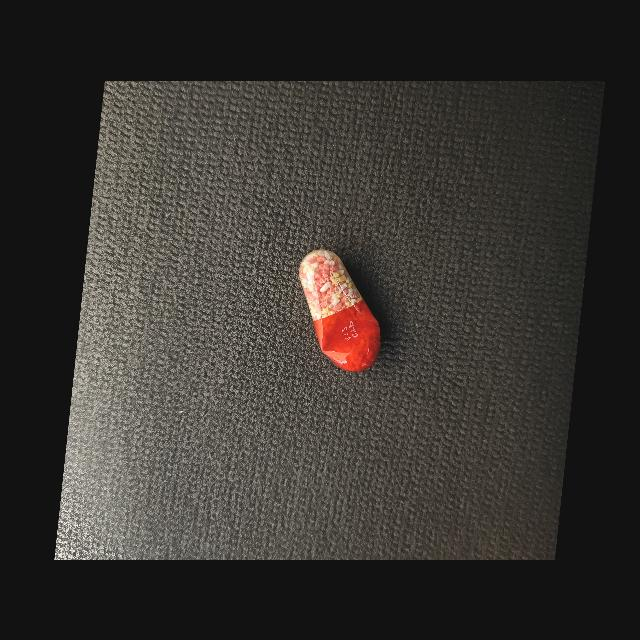Defective Capsule: (299, 249, 381, 371)
